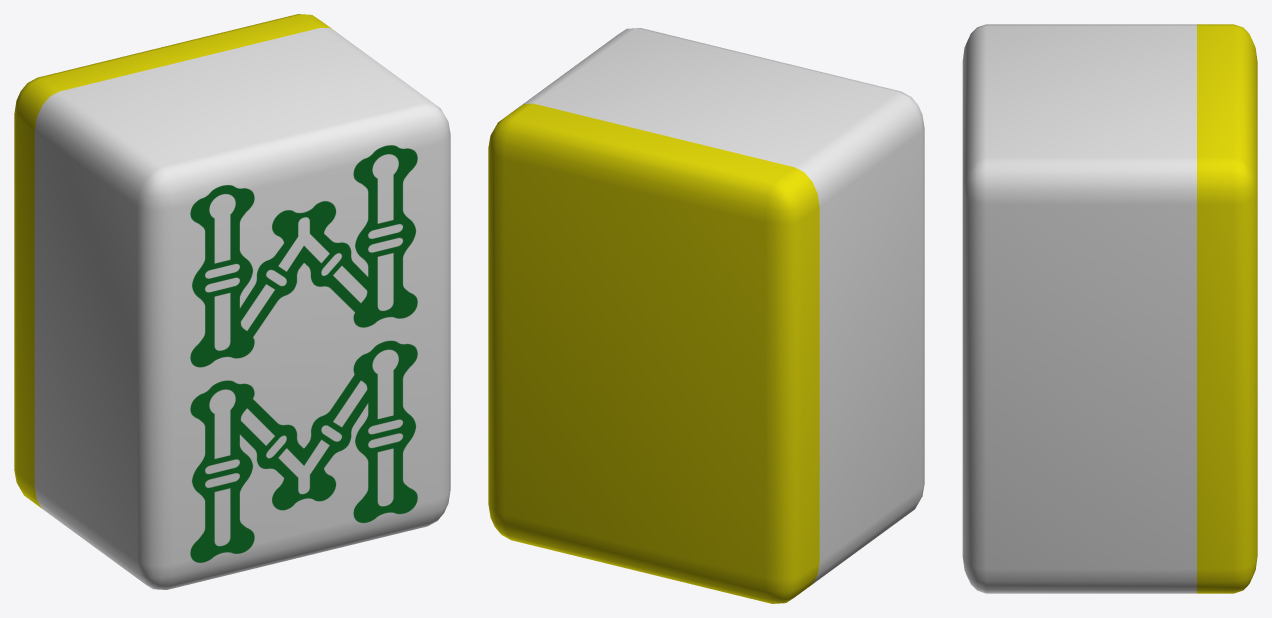
File: sozu8.glb
3 renders of one model, left to right at view 1: azimuth 30°, elevation 25°; view 2: azimuth 150°, elevation 25°; view 3: azimuth 270°, elevation 25°, orthographic. The views are drawn at different scales.
Parts seen in each view (by area): view 1: Cube, Cube.001; view 2: Cube; view 3: Cube.
Boxes of the visible parts, left/top/right/bottom form: Cube: left=14, top=14, right=450, bottom=589; Cube.001: left=190, top=145, right=417, bottom=562; Cube: left=488, top=28, right=924, bottom=603; Cube: left=962, top=24, right=1257, bottom=593.
Size of the model in its own units: 2 by 2.6 by 1.6.
Materials: 3 (1 with a texture image).
